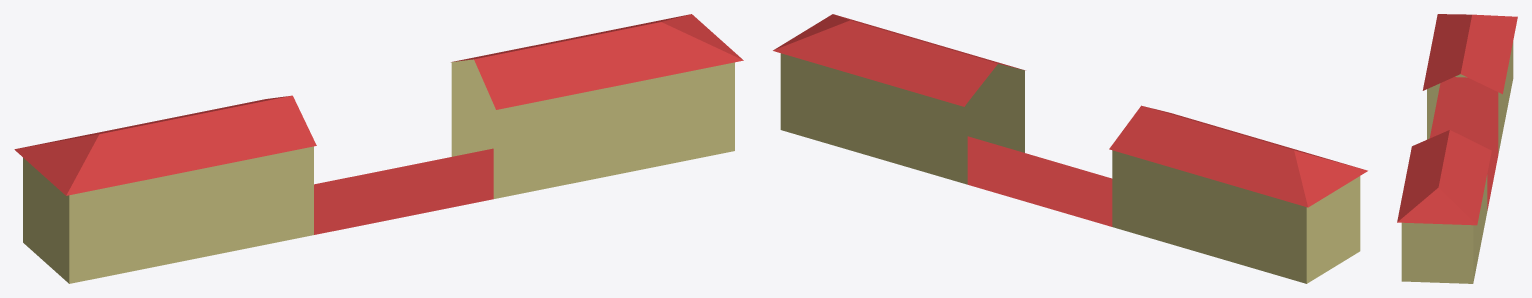
3 views of the same model, side by side, from view 1: azimuth 30°, elevation 25°; view 2: azimuth 150°, elevation 25°; view 3: azimuth 270°, elevation 25° (orthographic). The views are drawn at different scales.
Bounding box in the file's own units: 56.7 × 13.7 × 9.91.
